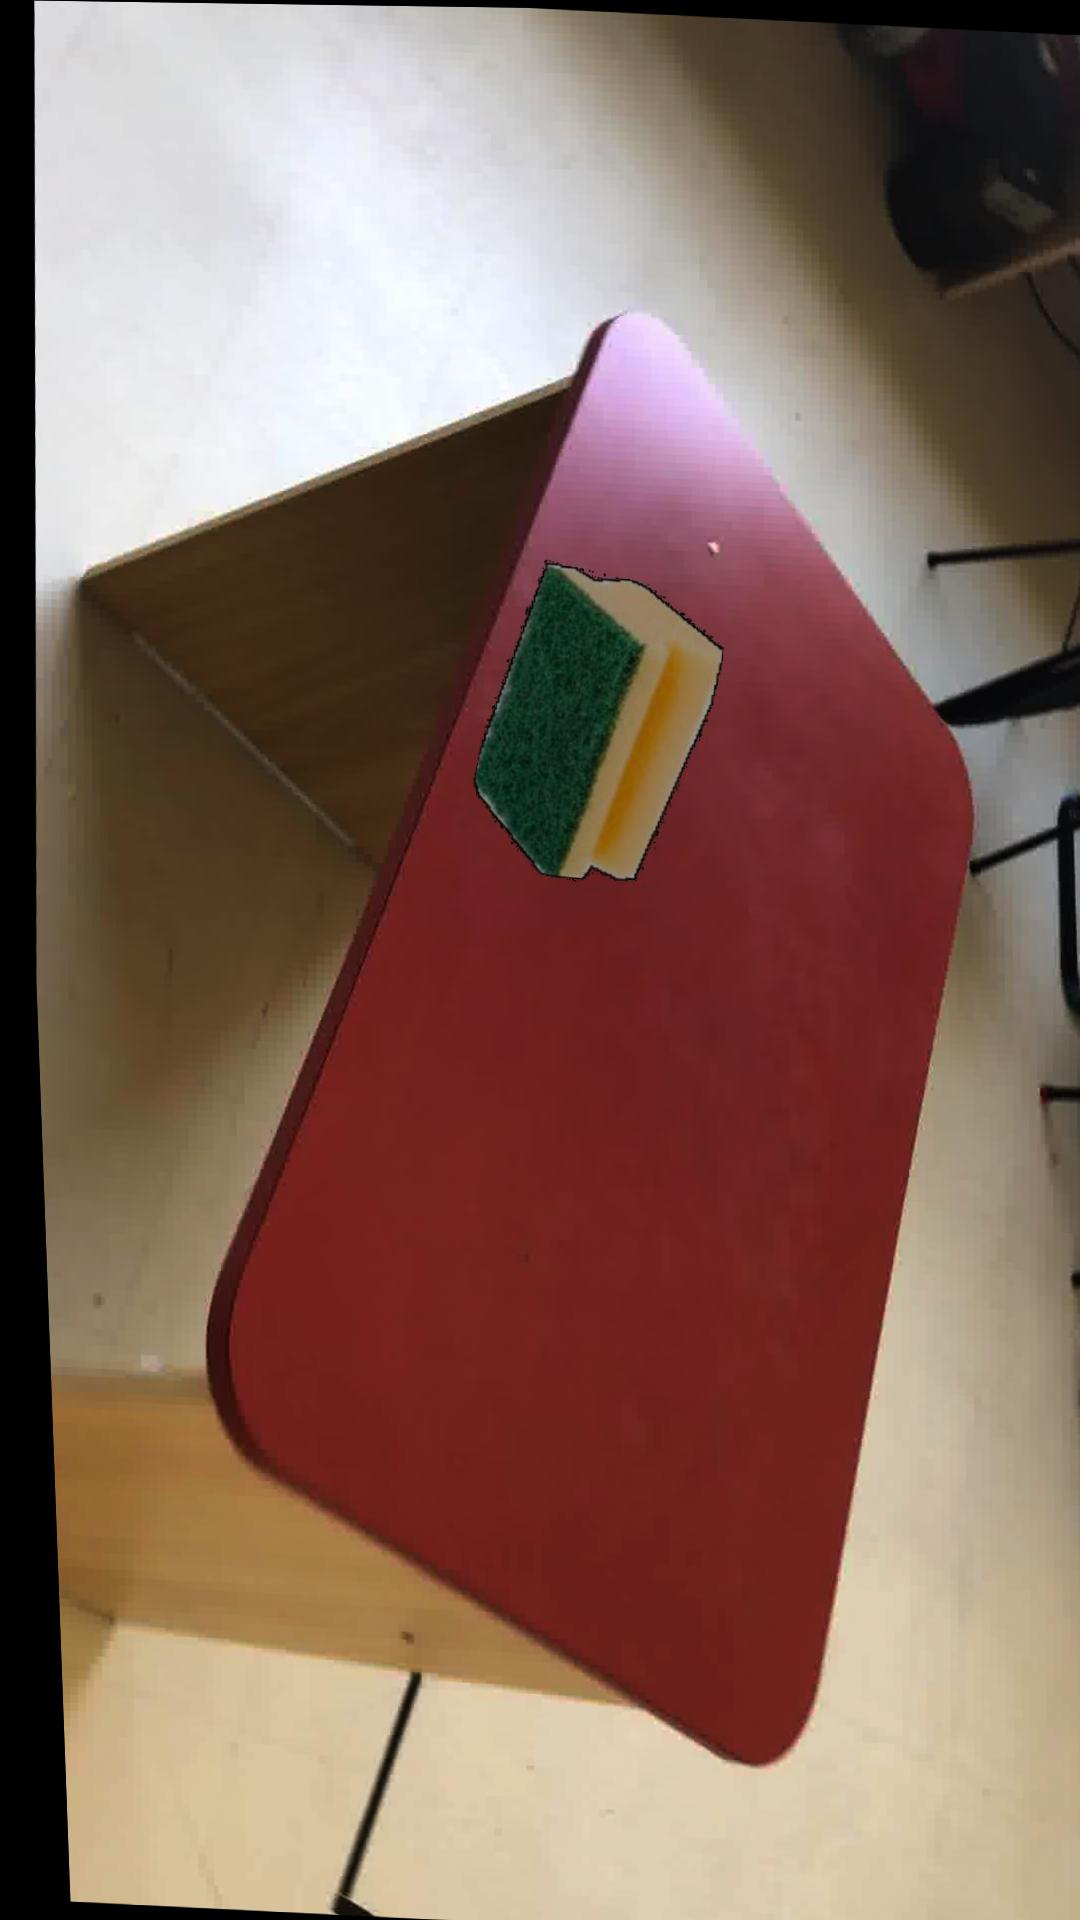sponge: (465, 562, 716, 878)
